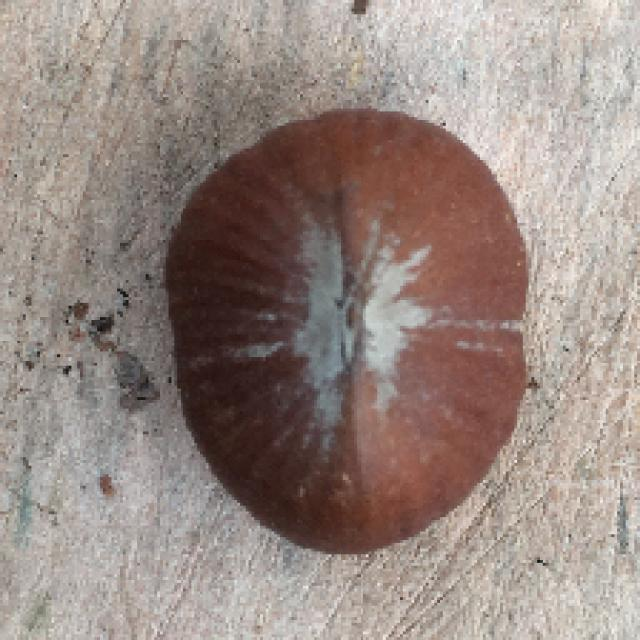damagedHazelnut: (162, 107, 530, 559)
